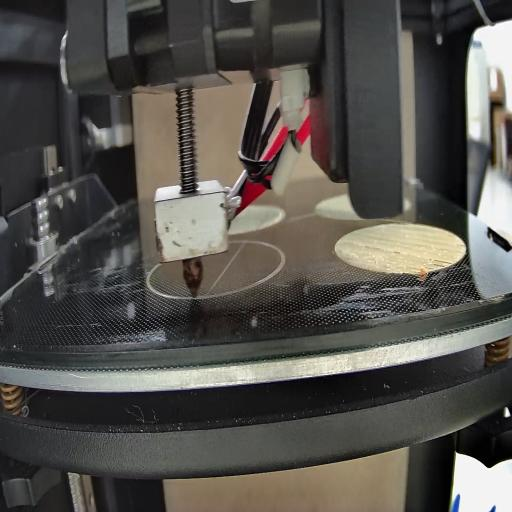under_extrusion: (362, 243, 403, 258), (423, 254, 453, 272), (452, 240, 465, 252)
